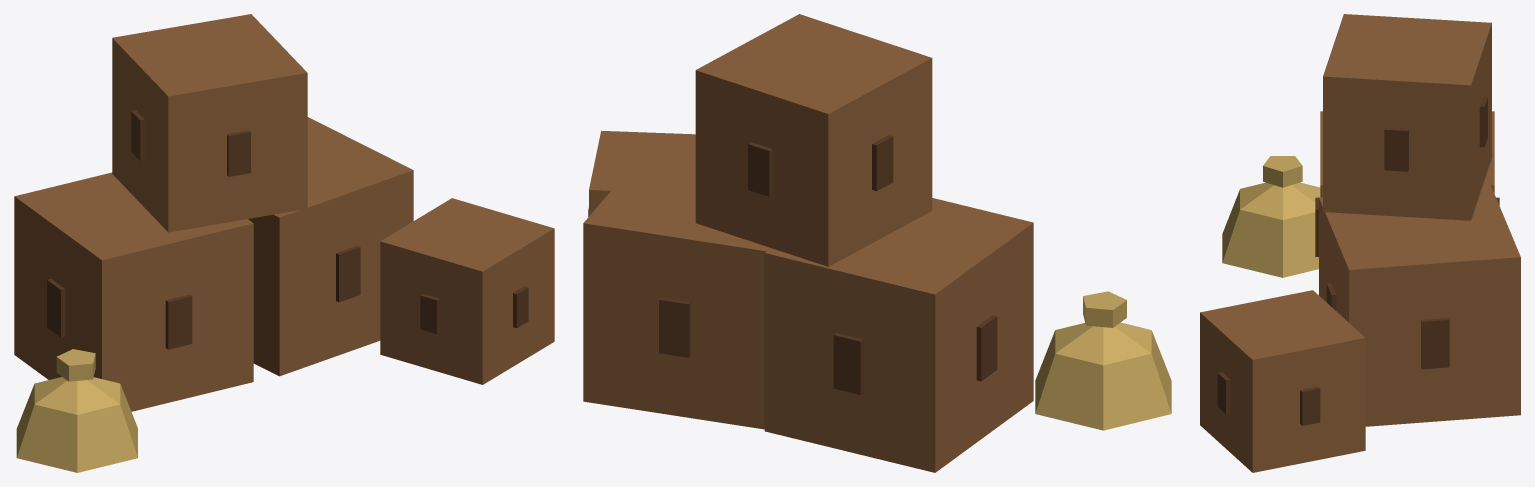
File: Crate_Stack.fbx
The picture shows the model from 3 angles, left to right: view 1: azimuth 30°, elevation 25°; view 2: azimuth 150°, elevation 25°; view 3: azimuth 270°, elevation 25°; orthographic projection. The views are drawn at different scales.
Parts seen in each view (by area): view 1: Crate_Stack; view 2: Crate_Stack; view 3: Crate_Stack.
Part boxes in pixels (x1=…): Crate_Stack: x1=14, y1=14, x2=554, y2=472; Crate_Stack: x1=583, y1=14, x2=1171, y2=472; Crate_Stack: x1=1200, y1=14, x2=1520, y2=472.
Bounding box in the file's own units: 2.41 × 1.3 × 1.29.
